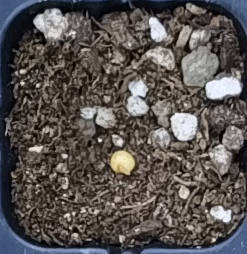pepper seed: (40, 62, 177, 238)
